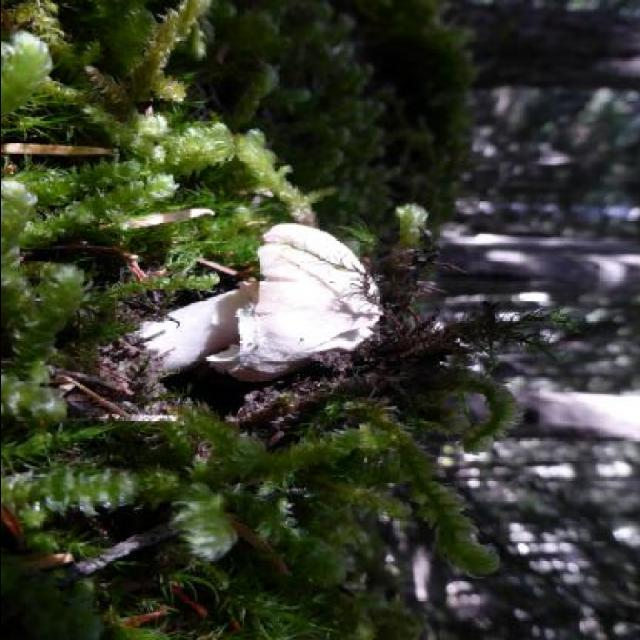Mushroom: (129, 220, 383, 388)
